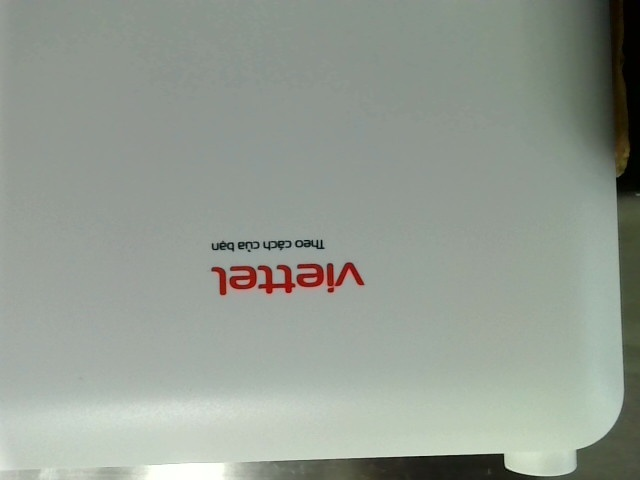AY_Viettel: (205, 231, 367, 299)
